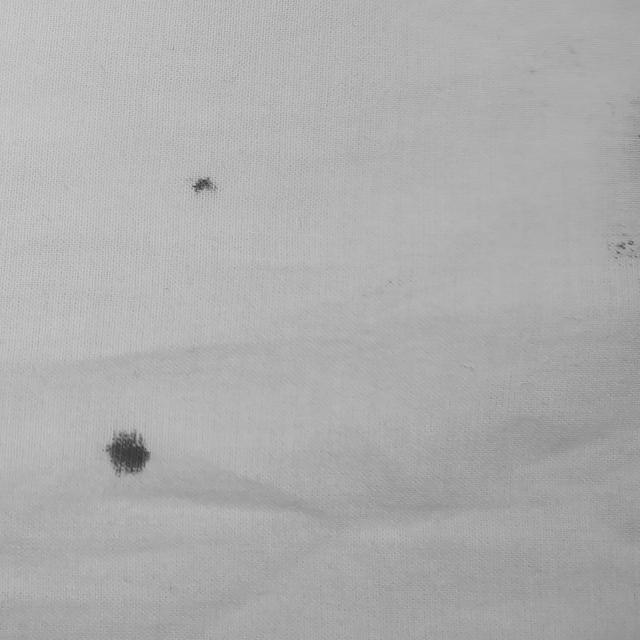Stain: (104, 431, 149, 476), (608, 219, 640, 260), (189, 176, 217, 194)
